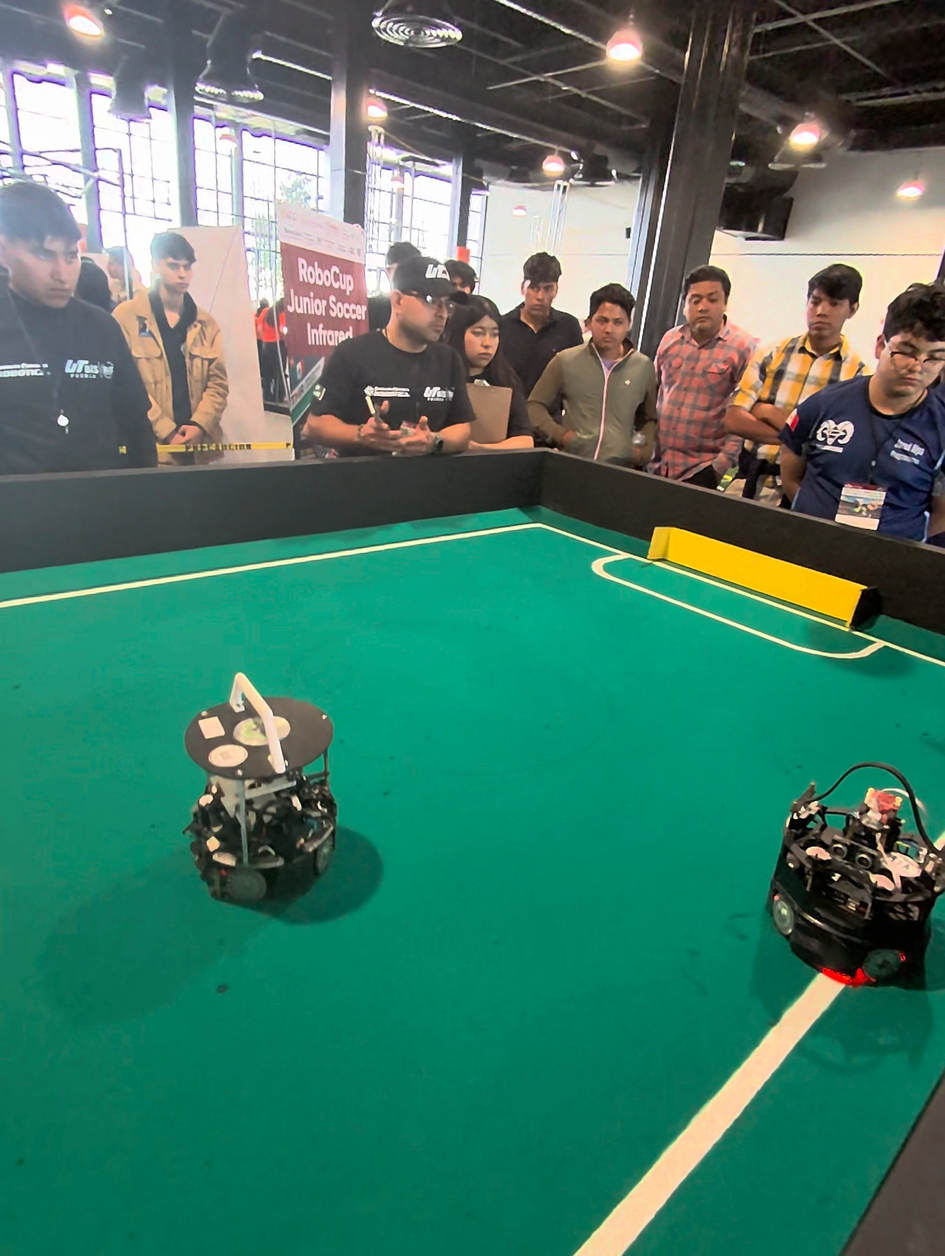Robot: (175, 662, 359, 929), (769, 745, 945, 1005)
